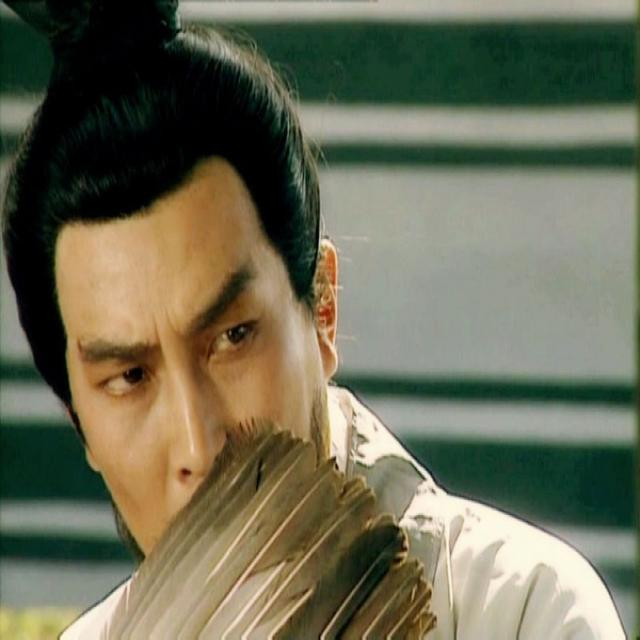nomask: (55, 185, 314, 587)
